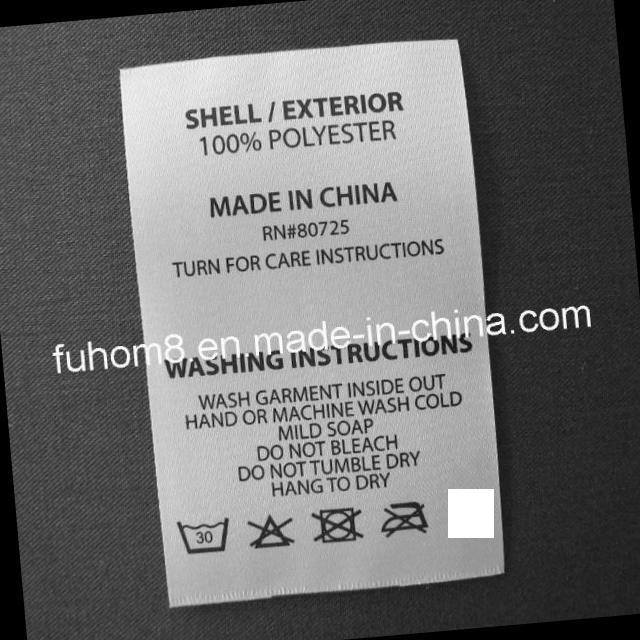30C: (170, 512, 234, 558)
DN_bleach: (242, 508, 301, 556)
DN_iron: (375, 494, 434, 542)
DN_tumble_dry: (307, 500, 367, 550)
